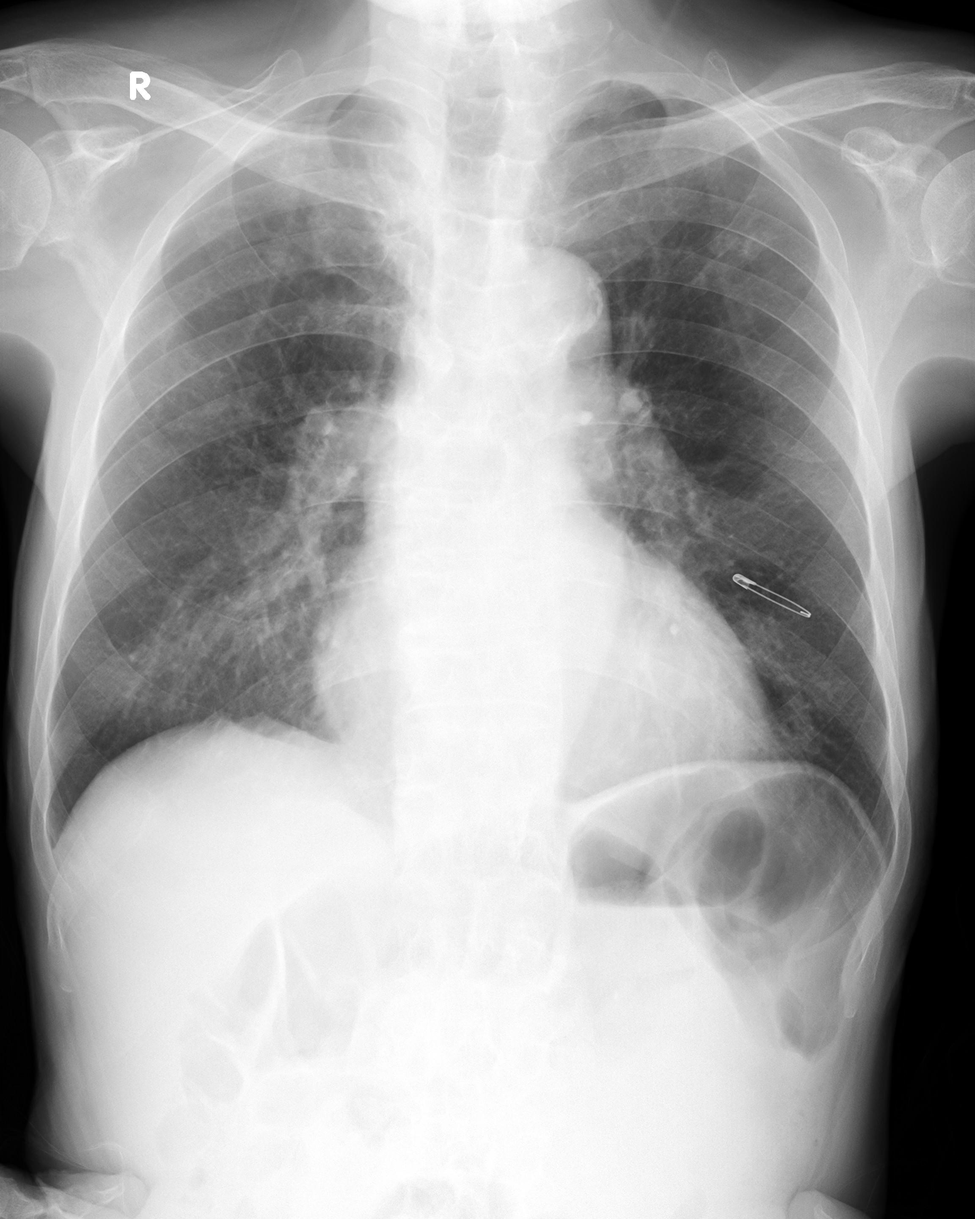Aortic enlargement: (485, 243, 608, 382)
Cardiomegaly: (306, 585, 772, 755)
Pulmonary fibrosis: (700, 212, 774, 259)
